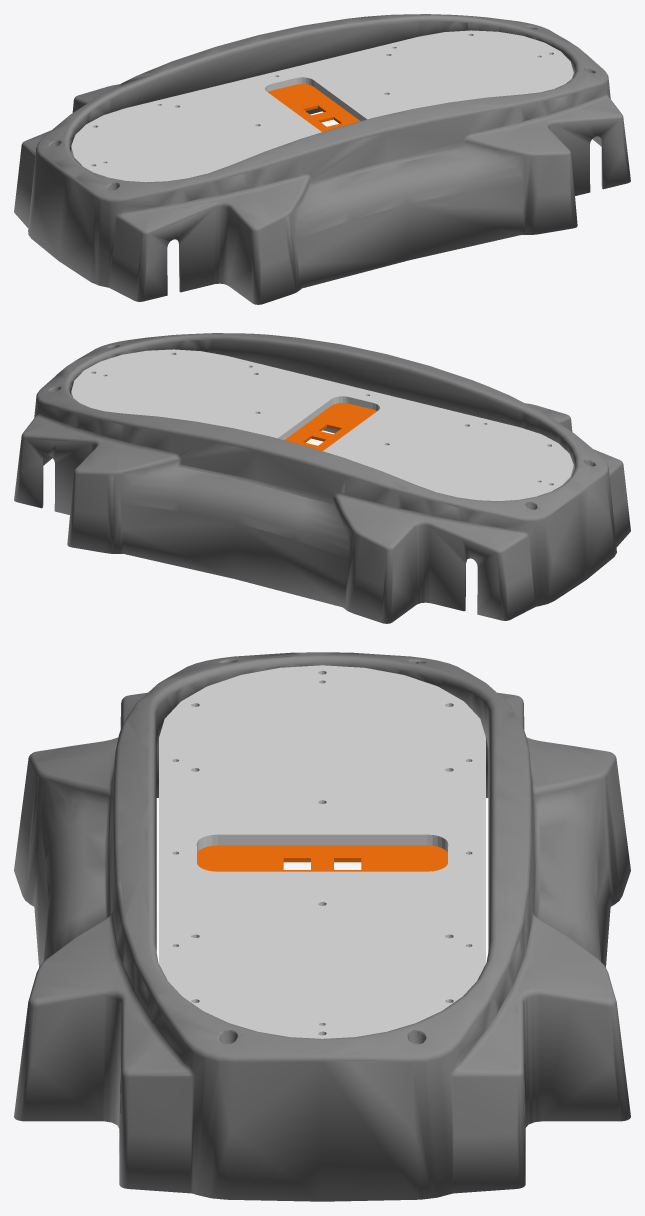
3 views of the same model, one above another, from view 1: azimuth 30°, elevation 25°; view 2: azimuth 150°, elevation 25°; view 3: azimuth 270°, elevation 25° (orthographic). The views are drawn at different scales.
Parts seen in each view (by area): view 1: Frame_004; view 2: Frame_004; view 3: Frame_004.
Boxes of the visible parts, x1=… form: Frame_004: x1=14, y1=14, x2=630, y2=304; Frame_004: x1=14, y1=333, x2=630, y2=623; Frame_004: x1=14, y1=652, x2=630, y2=1201.
Bounding box in the file's own units: 0.5701 × 0.3571 × 0.122.
